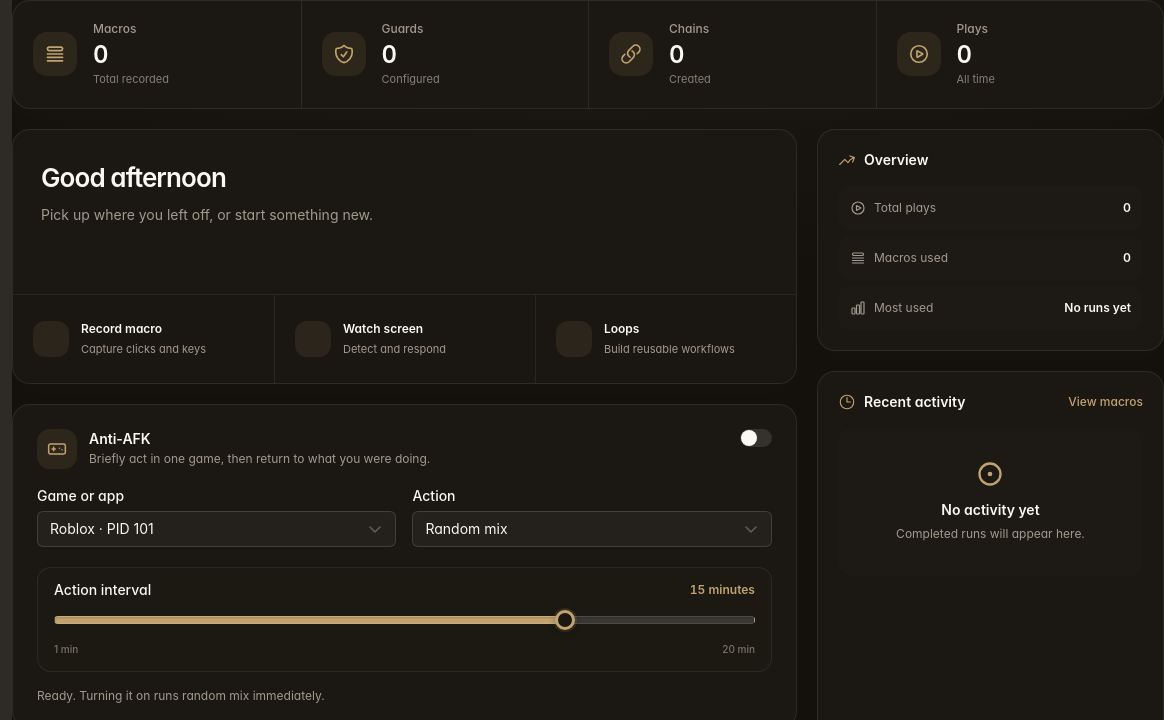
Home Anti-AFK controls › offers multiple anti-AFK actions including a random mix
The image size is (1164, 720).
Click the dropdown named "Anti-AFK action": (467, 528) [412,510,772,546]
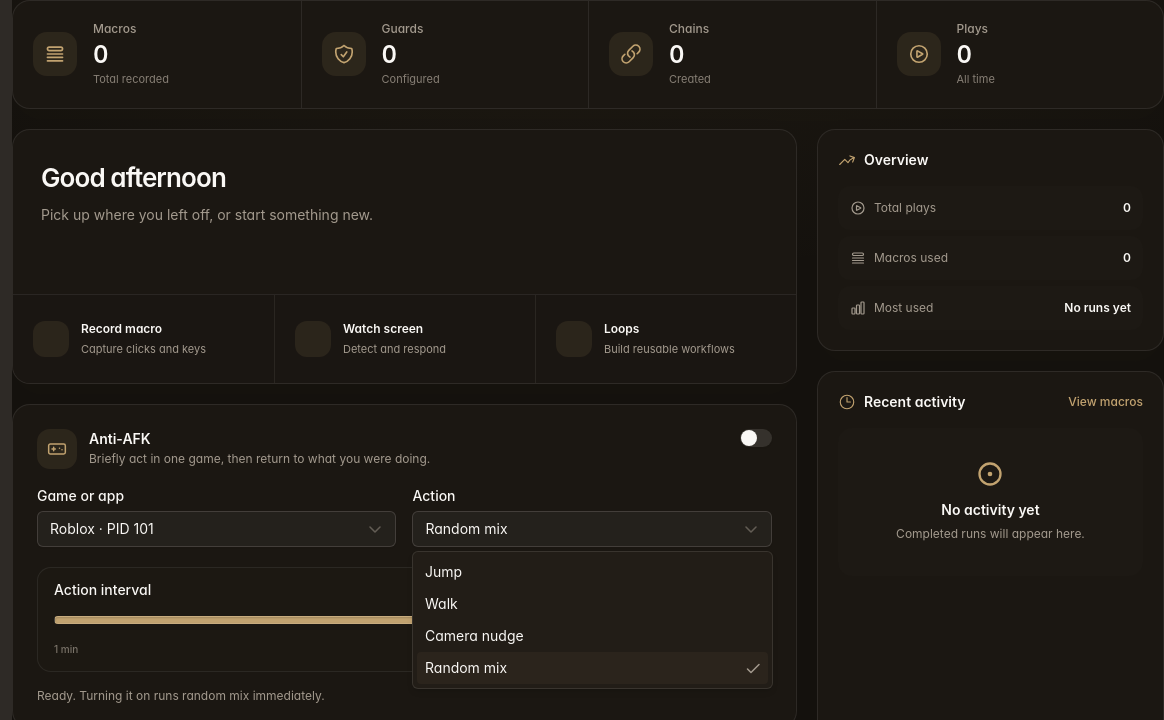
Expected: the option "Jump" is shown, [425,563,462,580]
Expected: the option "Walk" is shown, [425,595,458,612]
Expected: the option "Camera nudge" is shown, [425,627,524,644]
